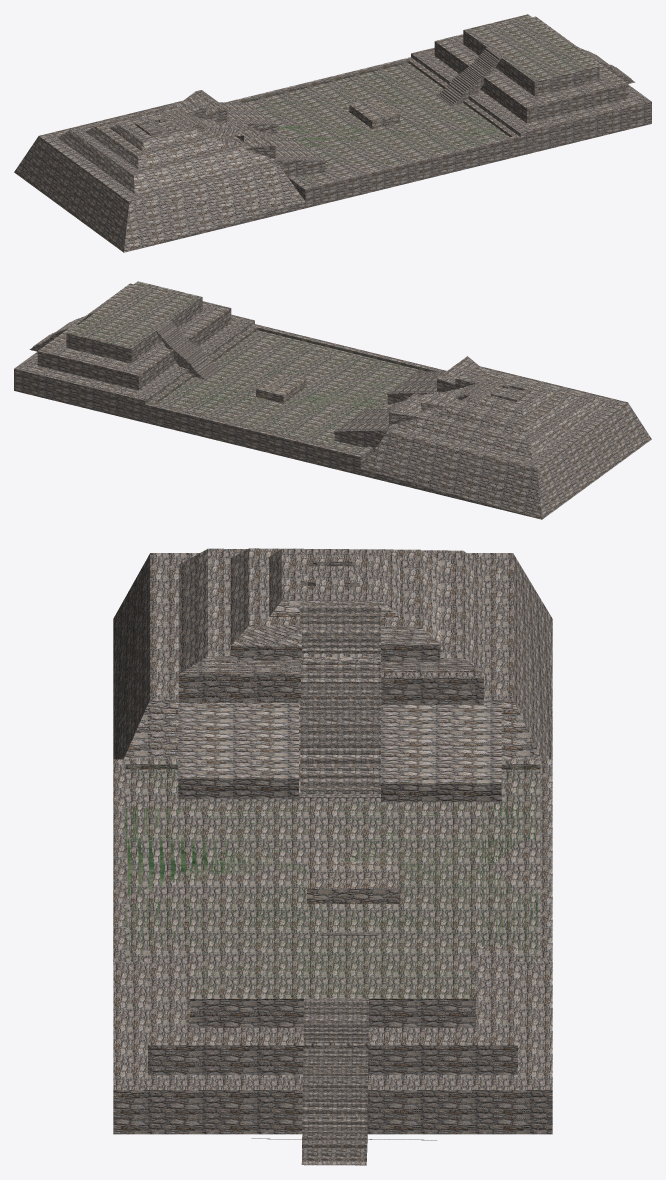
File: piramide1.obj
3 views of the same model, one above another, from view 1: azimuth 30°, elevation 25°; view 2: azimuth 150°, elevation 25°; view 3: azimuth 270°, elevation 25° (orthographic). The views are drawn at different scales.
Parts seen in each view (by area): view 1: Mesh12 Group4 Group3 Group2 Group1 Model, Mesh4 Group10 Group9 Group8 Group4 Group3 Group2 Group1 Model, Mesh11 Group17 Group16 Group4 Group3 Group2 Group1 Model, Mesh7 Group12 Group11 Group4 Group3 Group2 Group1 Model, Mesh8 Group15 Group14 Group13 Group4 Group3 Group2 Group1 Model, Mesh1 Group7 Group6 Group5 Group4 Group3 Group2 Group1 Model; view 2: Mesh12 Group4 Group3 Group2 Group1 Model, Mesh7 Group12 Group11 Group4 Group3 Group2 Group1 Model, Mesh4 Group10 Group9 Group8 Group4 Group3 Group2 Group1 Model, Mesh11 Group17 Group16 Group4 Group3 Group2 Group1 Model, Mesh1 Group7 Group6 Group5 Group4 Group3 Group2 Group1 Model, Mesh8 Group15 Group14 Group13 Group4 Group3 Group2 Group1 Model; view 3: Mesh12 Group4 Group3 Group2 Group1 Model, Mesh8 Group15 Group14 Group13 Group4 Group3 Group2 Group1 Model, Mesh11 Group17 Group16 Group4 Group3 Group2 Group1 Model, Mesh7 Group12 Group11 Group4 Group3 Group2 Group1 Model, Mesh1 Group7 Group6 Group5 Group4 Group3 Group2 Group1 Model.
Part boxes in pixels (x1,y1,x2,y2): Mesh12 Group4 Group3 Group2 Group1 Model: (14, 14, 651, 252); Mesh4 Group10 Group9 Group8 Group4 Group3 Group2 Group1 Model: (437, 48, 501, 105); Mesh11 Group17 Group16 Group4 Group3 Group2 Group1 Model: (266, 138, 325, 178); Mesh7 Group12 Group11 Group4 Group3 Group2 Group1 Model: (219, 102, 277, 134); Mesh8 Group15 Group14 Group13 Group4 Group3 Group2 Group1 Model: (181, 111, 279, 138); Mesh1 Group7 Group6 Group5 Group4 Group3 Group2 Group1 Model: (555, 34, 635, 83); Mesh12 Group4 Group3 Group2 Group1 Model: (14, 281, 651, 519); Mesh7 Group12 Group11 Group4 Group3 Group2 Group1 Model: (334, 409, 392, 449); Mesh4 Group10 Group9 Group8 Group4 Group3 Group2 Group1 Model: (155, 321, 219, 379); Mesh11 Group17 Group16 Group4 Group3 Group2 Group1 Model: (387, 371, 445, 404); Mesh1 Group7 Group6 Group5 Group4 Group3 Group2 Group1 Model: (29, 311, 96, 351); Mesh8 Group15 Group14 Group13 Group4 Group3 Group2 Group1 Model: (382, 381, 480, 408); Mesh12 Group4 Group3 Group2 Group1 Model: (113, 548, 552, 1134); Mesh8 Group15 Group14 Group13 Group4 Group3 Group2 Group1 Model: (300, 608, 381, 798); Mesh11 Group17 Group16 Group4 Group3 Group2 Group1 Model: (178, 699, 298, 799); Mesh7 Group12 Group11 Group4 Group3 Group2 Group1 Model: (381, 704, 501, 801); Mesh1 Group7 Group6 Group5 Group4 Group3 Group2 Group1 Model: (251, 998, 436, 1165).
Size of the model in its own units: 59.6 by 6.85 by 20.27.
